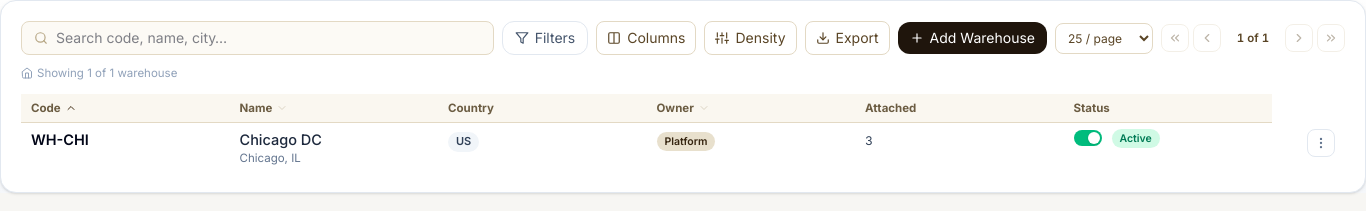
Scenario: WarehousesPage · Global · positive › shows the filter-variant empty-state when a search yields zero results
Expected: the text "WH-CHI" is shown, [31,131,89,148]
Type "zzzzz" into the field with placeholder "Search code, name, city…" at (268, 38), box [56,28,481,48]
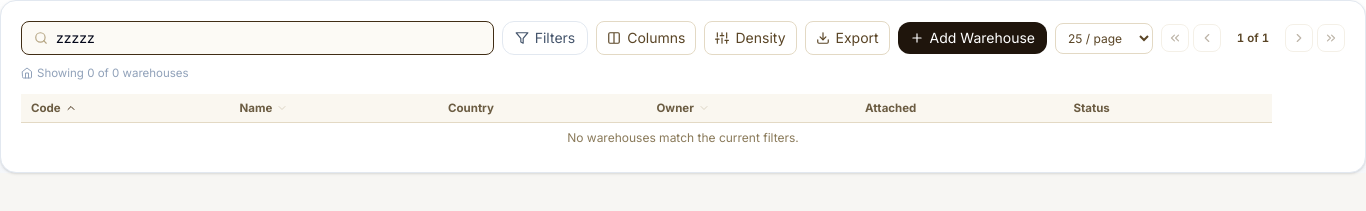
Result: the text "No warehouses match the current filters." is shown at [21,123,1345,152]
